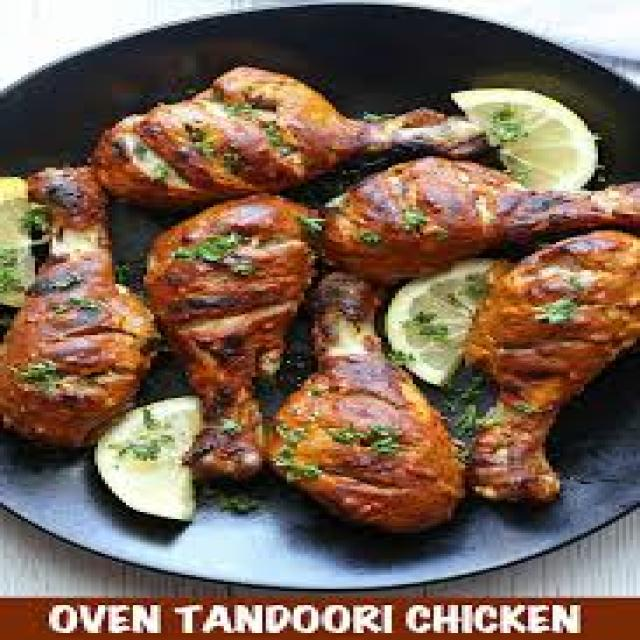Frango: (17, 65, 640, 542)
